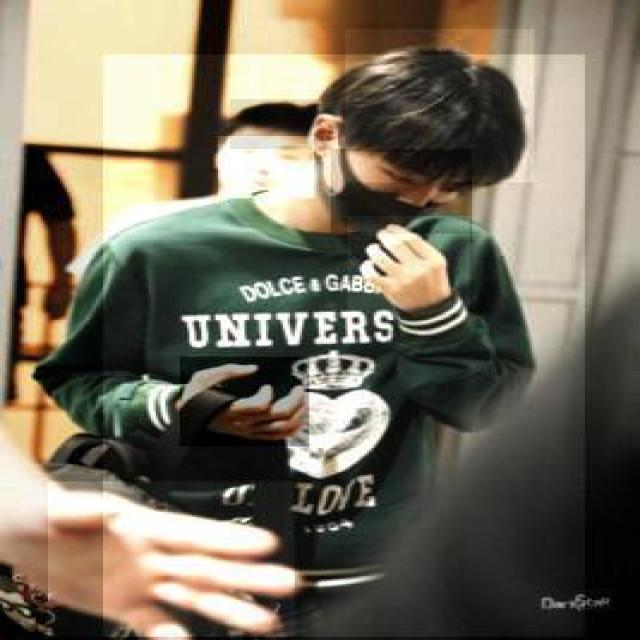face_mask: (331, 148, 472, 234)
face_nomask: (218, 136, 314, 198)
hand_noglove: (48, 482, 297, 638), (180, 357, 312, 448), (348, 216, 470, 314)
head_nohelmet: (345, 29, 537, 184), (230, 100, 326, 150)
person: (103, 54, 587, 638)
